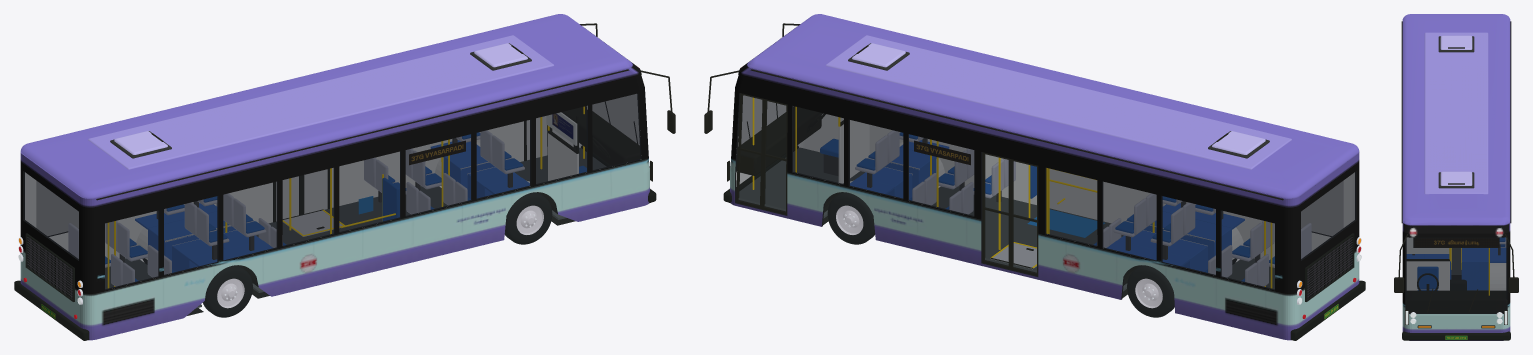
Rendered from ebus-nonac-2025.glb.
The picture shows the model from 3 angles, left to right: view 1: azimuth 30°, elevation 25°; view 2: azimuth 150°, elevation 25°; view 3: azimuth 270°, elevation 25°; orthographic projection. The views are drawn at different scales.
Parts seen in each view (by area): view 1: ebus-nonac-2025_Body, ebus-nonac-2025_Glass, ebus-nonac-2025_Wheel_Front_L; view 2: ebus-nonac-2025_Body, ebus-nonac-2025_Glass, ebus-nonac-2025_Wheel_Front_L; view 3: ebus-nonac-2025_Body, ebus-nonac-2025_Glass.
Part boxes in pixels (x1=…): ebus-nonac-2025_Body: x1=14, y1=14, x2=675, y2=340; ebus-nonac-2025_Glass: x1=24, y1=93, x2=641, y2=289; ebus-nonac-2025_Wheel_Front_L: x1=142, y1=192, x2=552, y2=317; ebus-nonac-2025_Body: x1=704, y1=14, x2=1365, y2=340; ebus-nonac-2025_Glass: x1=738, y1=95, x2=1355, y2=289; ebus-nonac-2025_Wheel_Front_L: x1=827, y1=192, x2=1236, y2=317; ebus-nonac-2025_Body: x1=1394, y1=14, x2=1518, y2=340; ebus-nonac-2025_Glass: x1=1406, y1=237, x2=1506, y2=313.
Bounding box in the file's own units: 12.41 × 3.35 × 2.95.
11 materials, 11 textured.
